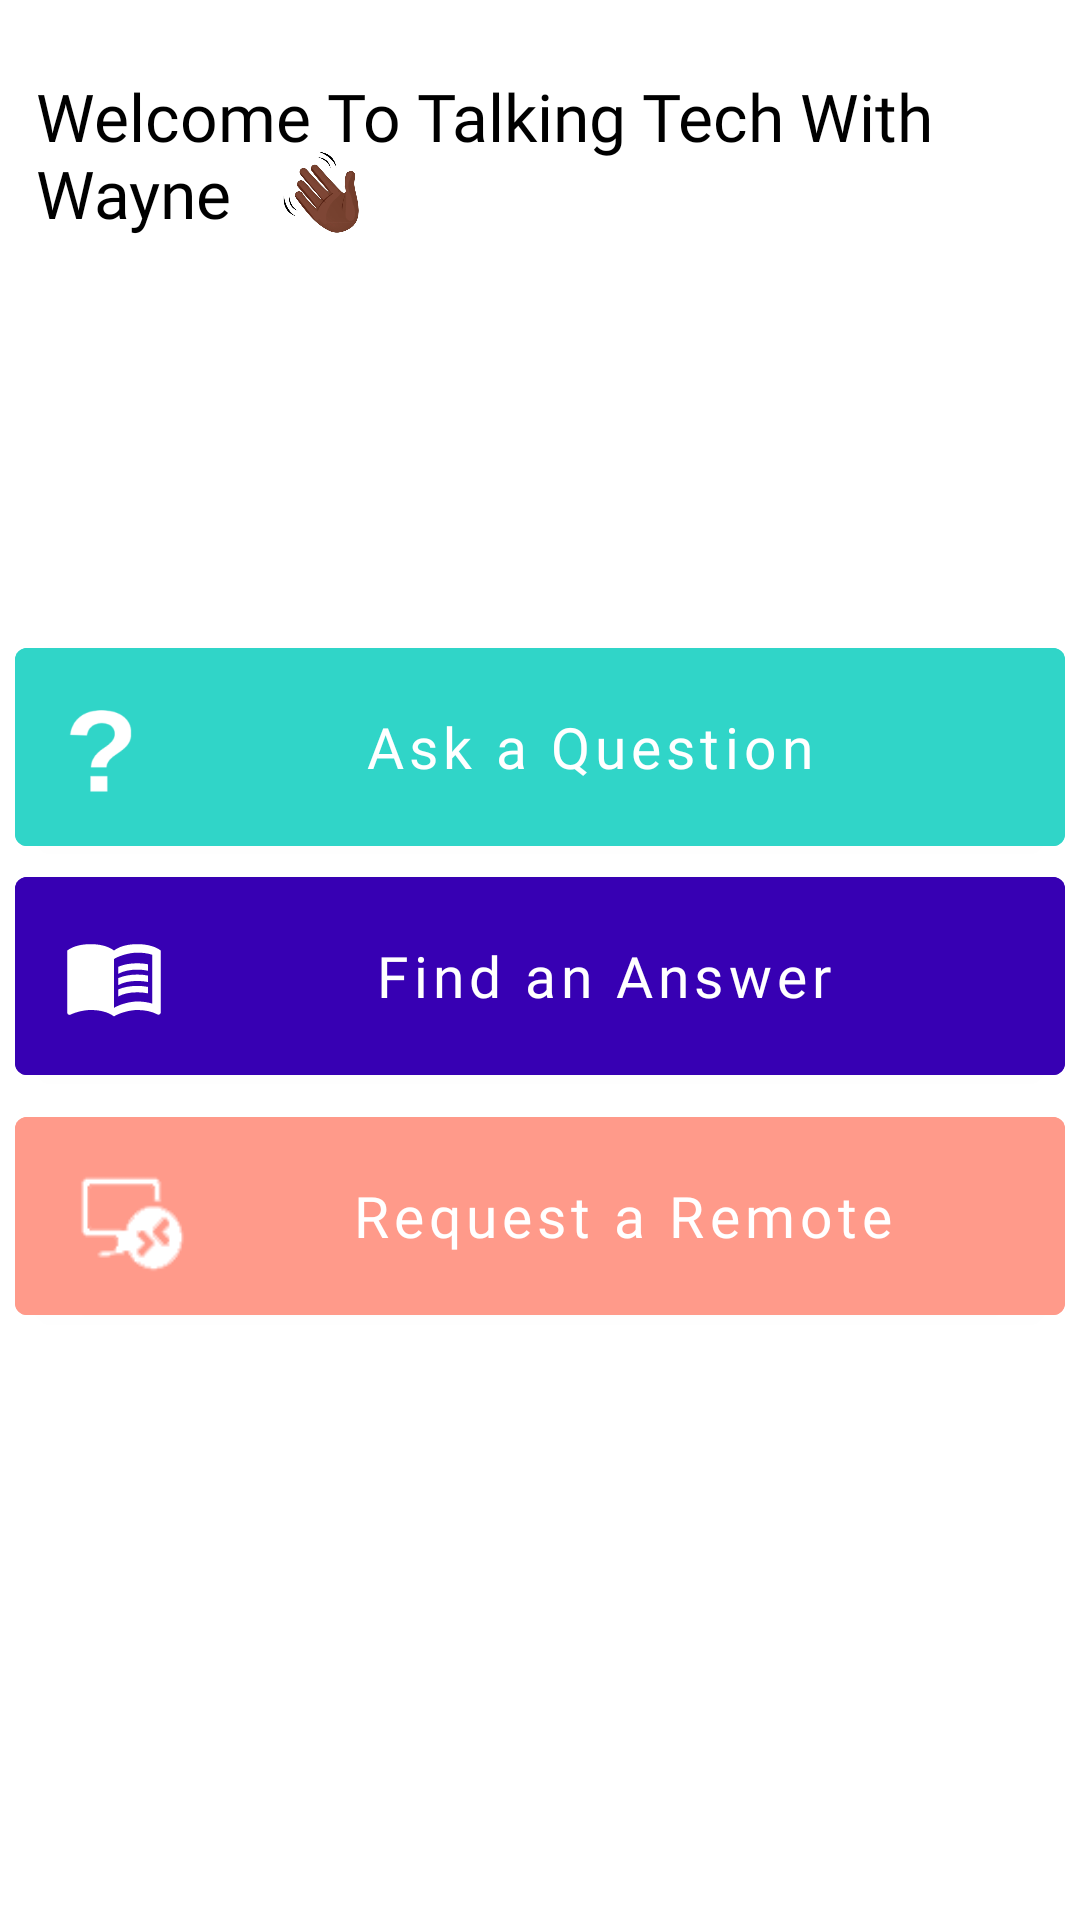

Screen size 1080w x 1920h. Icon name, then its box in pixels as bbox=[x1, y1, x2, y2]:
waving emoji: bbox=[283, 152, 359, 233]
